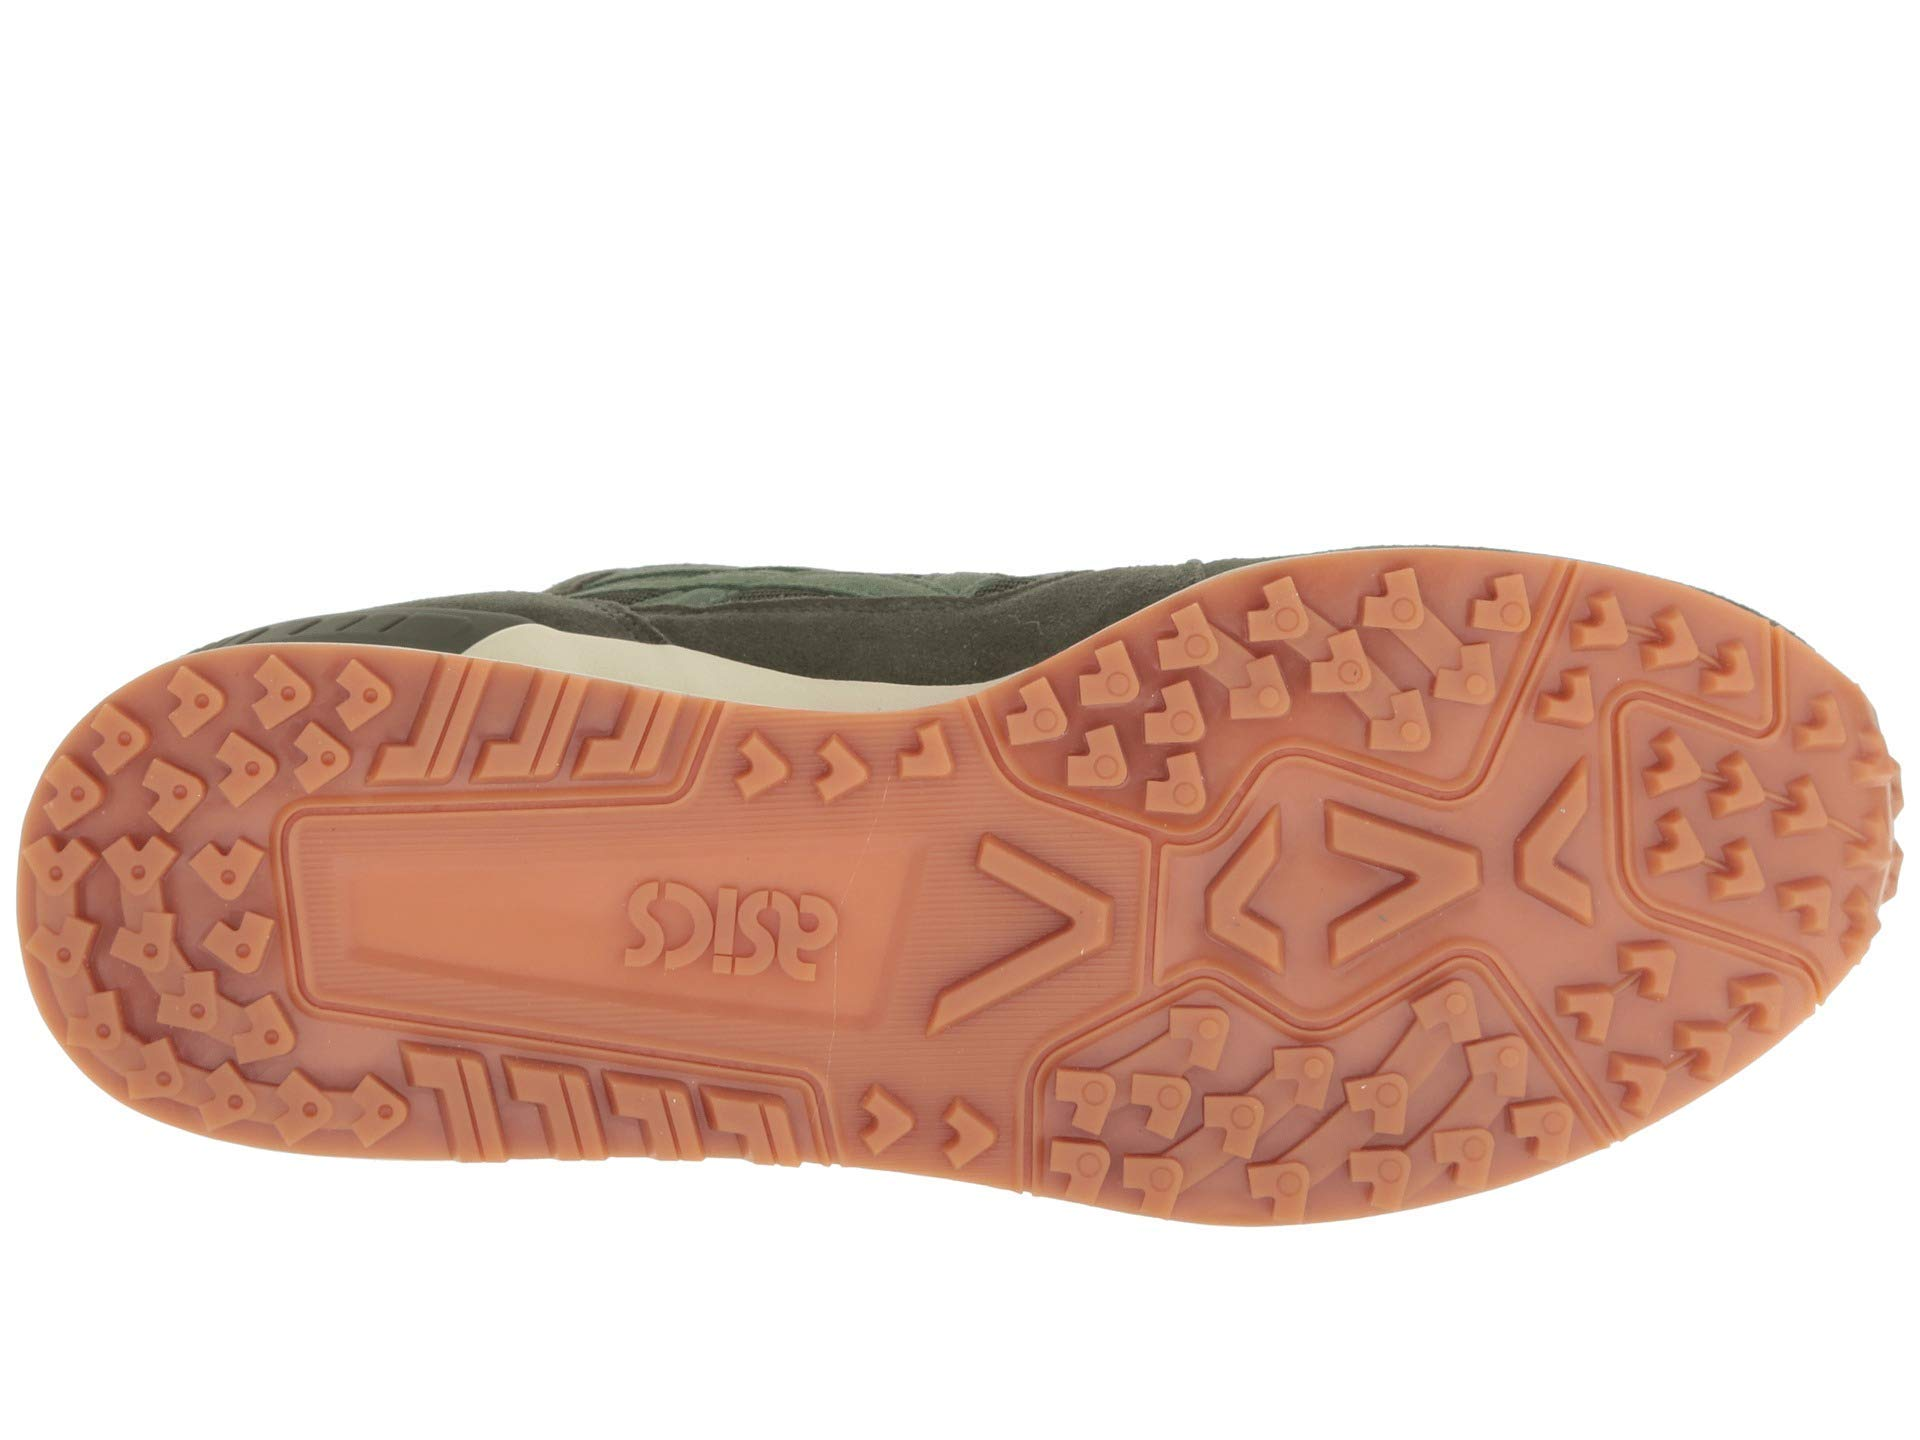chevron: (1085, 635, 1619, 1097), (187, 669, 401, 953), (733, 702, 946, 889)
circle: (1085, 635, 1619, 1097), (187, 669, 401, 953)
line: (733, 702, 946, 889)
quad: (435, 652, 706, 877), (618, 864, 850, 1012)
text: (618, 864, 850, 1012)
